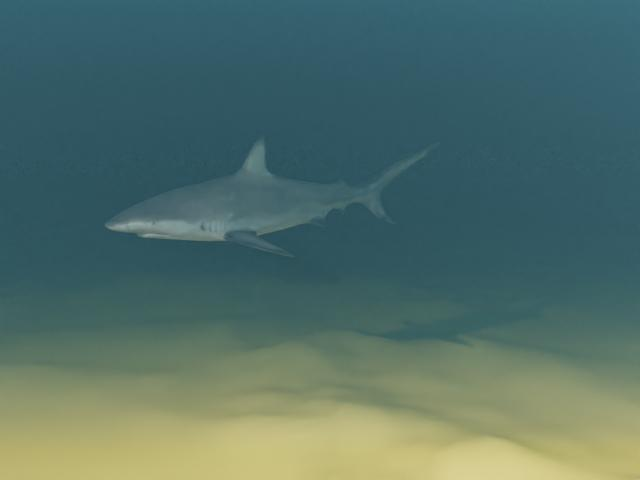Carribean Shark.001: (105, 136, 441, 257)
